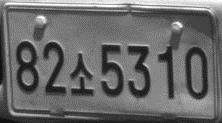0: (184, 45, 209, 100)
1: (153, 44, 184, 100)
2: (41, 40, 67, 95)
3: (125, 42, 152, 98)
5: (98, 42, 125, 99)
8: (15, 39, 40, 93)
소: (68, 51, 95, 97)
